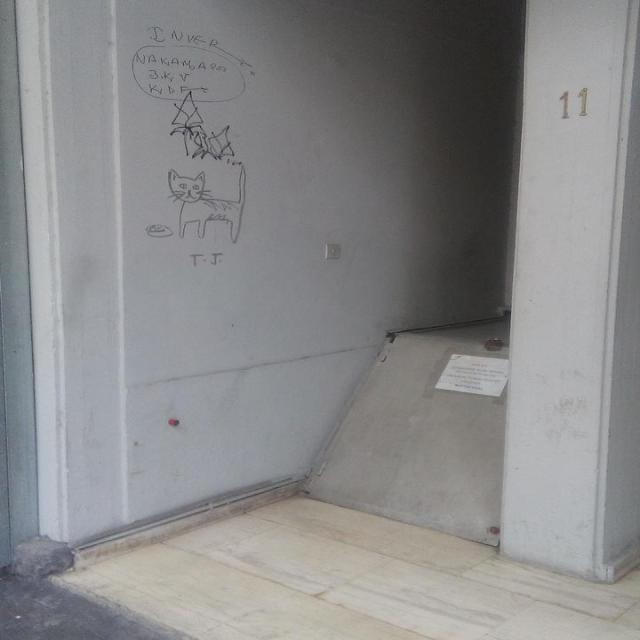nonspitting: (132, 26, 258, 268)
